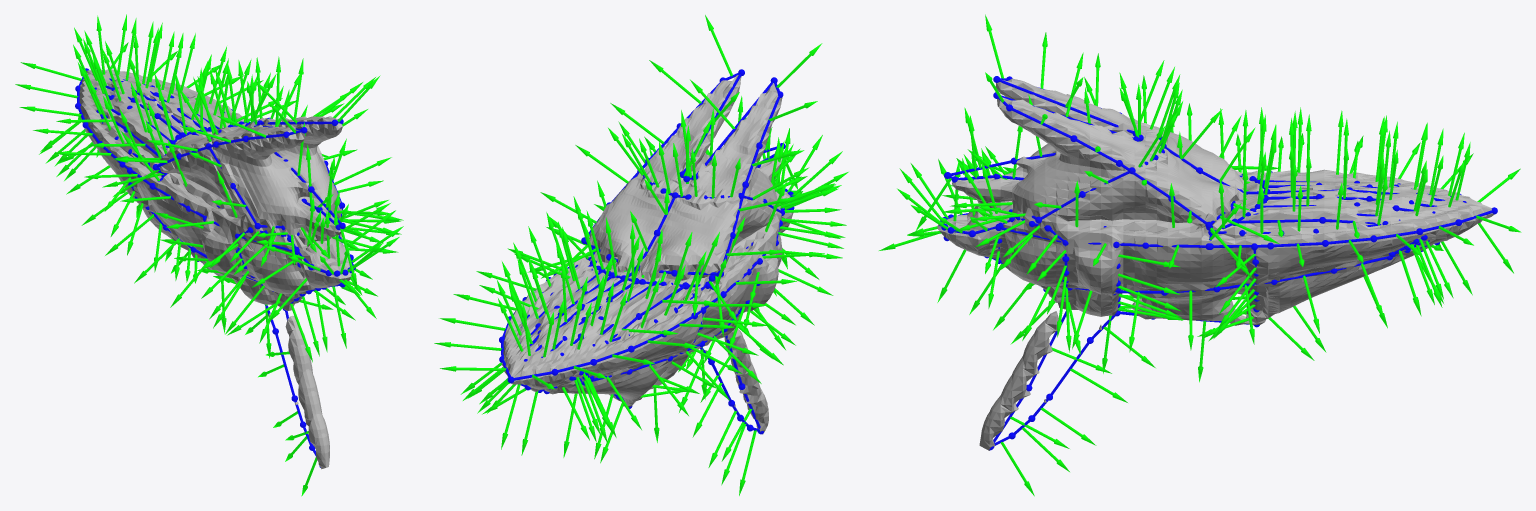
File: ils_boat.gltf
3 views of the same model, side by side, from view 1: azimuth 30°, elevation 25°; view 2: azimuth 150°, elevation 25°; view 3: azimuth 270°, elevation 25° (orthographic). The views are drawn at different scales.
Size of the model in its own units: 0.4348 by 0.7149 by 0.919.
